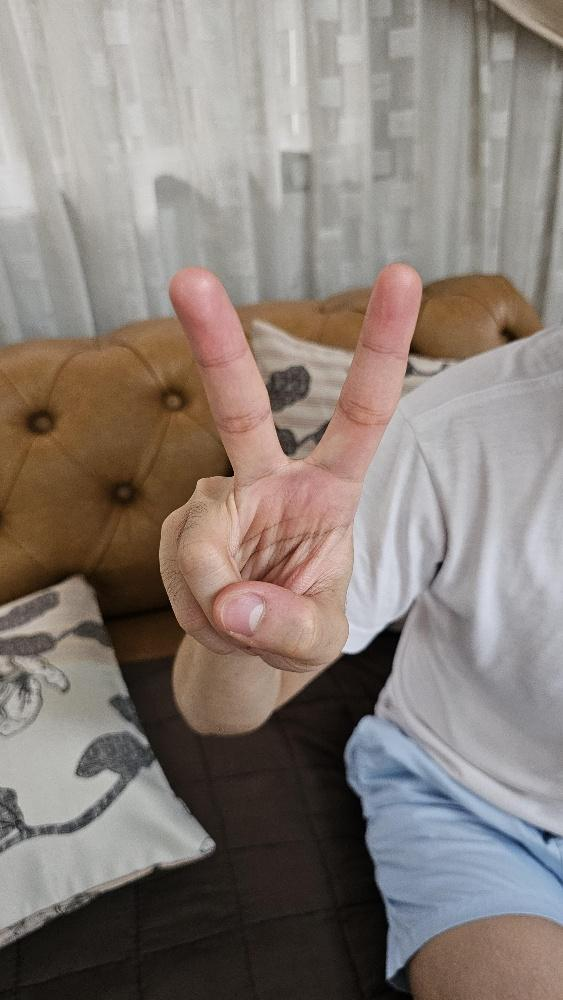v: (155, 258, 424, 674)
